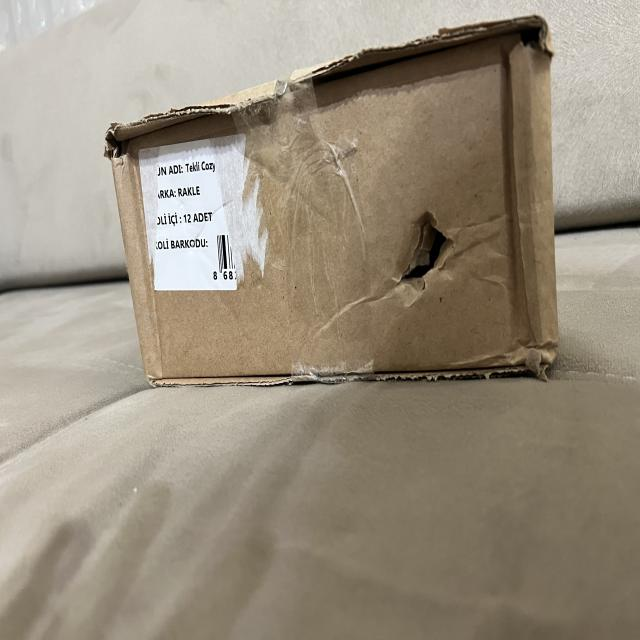damaged: (99, 5, 565, 392), (389, 208, 463, 306), (310, 42, 434, 86), (514, 4, 556, 70), (103, 114, 140, 171)
